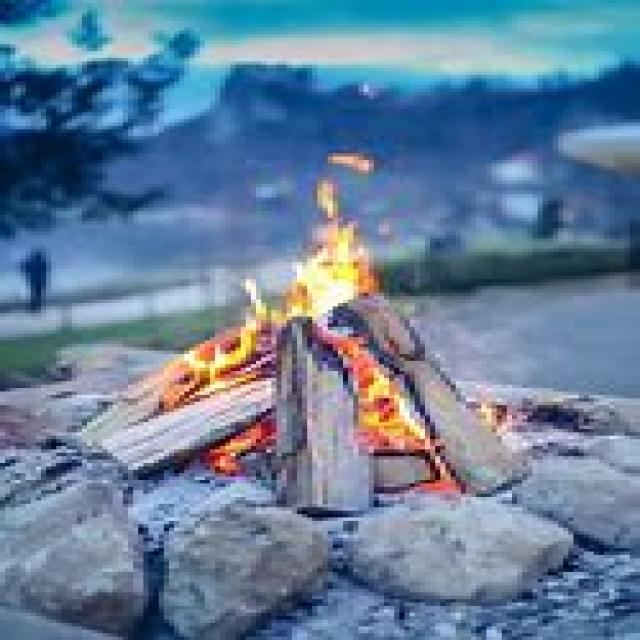smoke: (164, 218, 516, 490), (324, 148, 382, 177), (312, 182, 346, 216)
